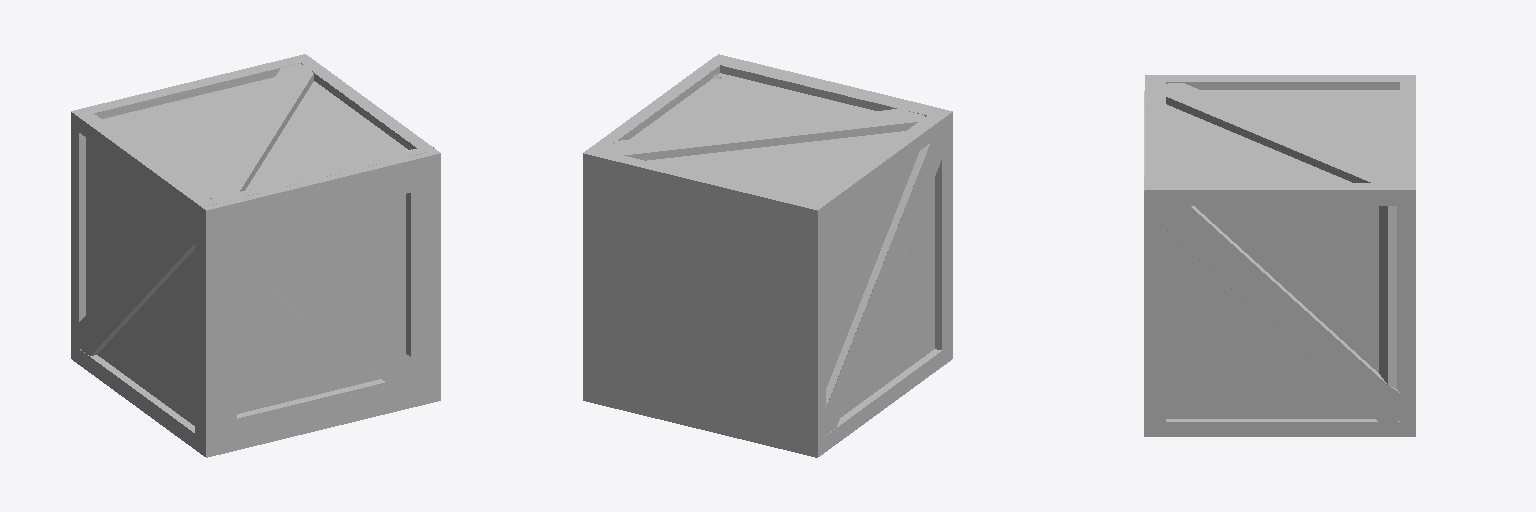
The model's file is Nouvelle scène.obj.
3 renders of one model, left to right at view 1: azimuth 30°, elevation 25°; view 2: azimuth 150°, elevation 25°; view 3: azimuth 270°, elevation 25°, orthographic.
Visible parts, largest first — view 1: Object.1; view 2: Object.1; view 3: Object.1.
Part boxes in pixels (x1,y1,x2,y2): Object.1: (71,54,440,457); Object.1: (583,54,952,457); Object.1: (1144,75,1415,436).
Bounding box in the file's own units: 40 × 40.24 × 40.